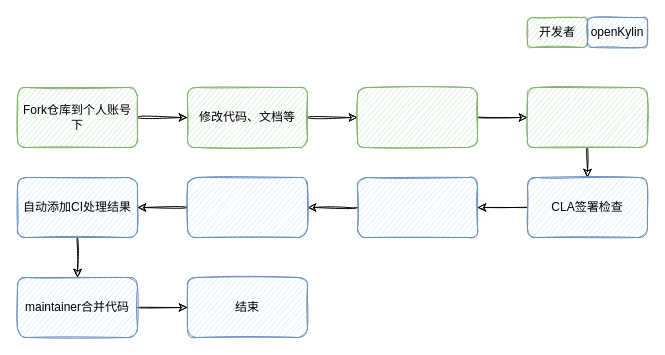
Some shapes in this 665 by 355 pixel diagram are drawn without their labels. Here are the shapes that lost their labels. From the top down, the centre of each, then its label:
the point at 417,117: 推送代码到个人仓库
the point at 587,117: 给openKylin仓库提交PR
the point at 247,207: 触发CI流程
the point at 417,207: maintainer审查PR
